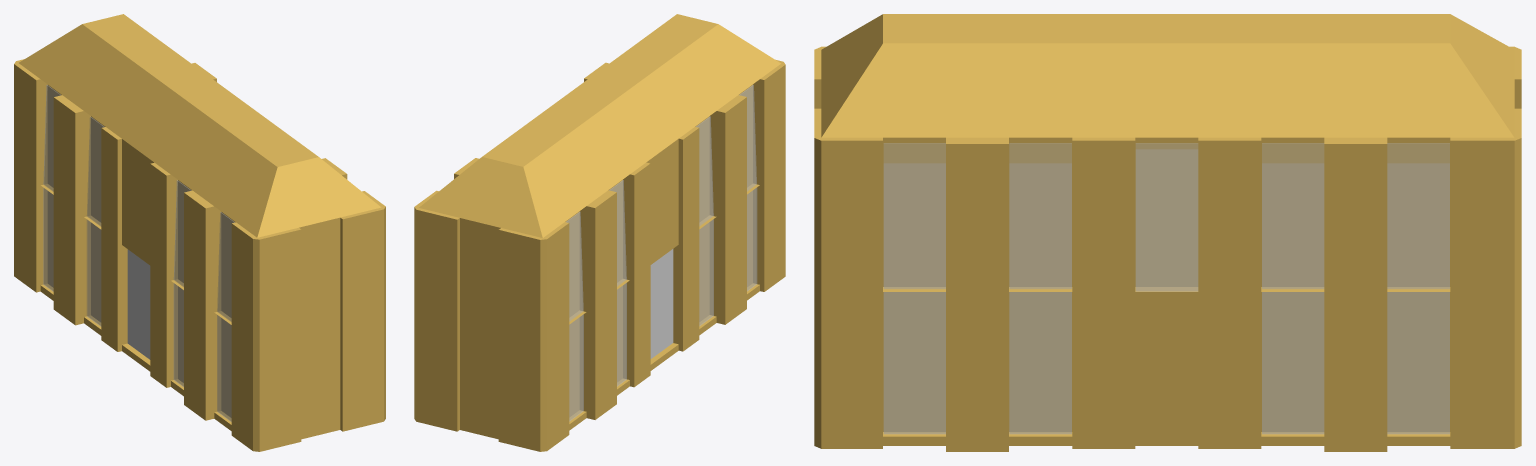
File: RamHouse.fbx
3 views of the same model, side by side, from view 1: azimuth 30°, elevation 25°; view 2: azimuth 150°, elevation 25°; view 3: azimuth 270°, elevation 25° (orthographic). The views are drawn at different scales.
Parts seen in each view (by area): view 1: Куб, Куб.004, Куб.001; view 2: Куб, Куб.004, Куб.001; view 3: Куб, Куб.004.
Boxes of the visible parts, <box> form: Куб: <box>14,14,385,451</box>; Куб.004: <box>43,85,234,421</box>; Куб.001: <box>127,249,150,359</box>; Куб: <box>414,14,785,451</box>; Куб.004: <box>566,85,757,421</box>; Куб.001: <box>650,249,673,358</box>; Куб: <box>814,14,1521,451</box>; Куб.004: <box>883,143,1449,434</box>.
Size of the model in its own units: 956 by 1662 by 2854.
